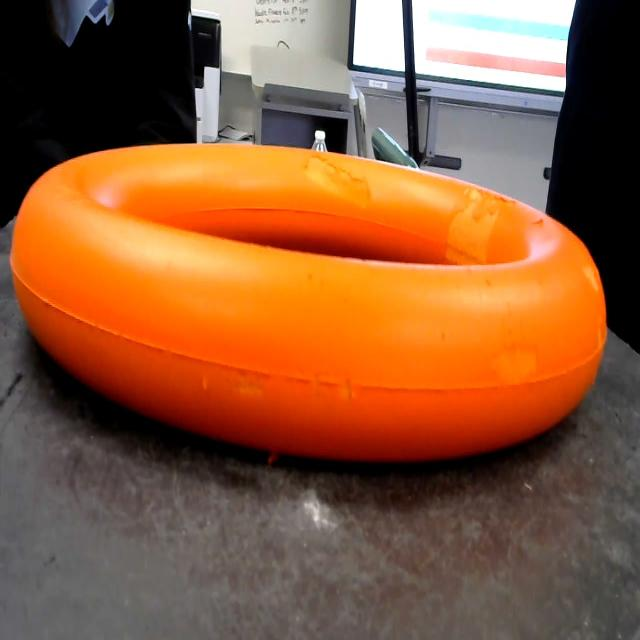note: (8, 130, 614, 465)
